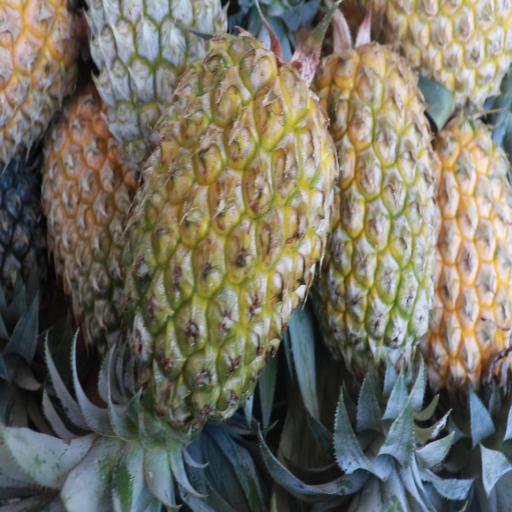------------------------------: (45, 102, 140, 342)
Pineapple - v8 v1: (125, 56, 332, 417), (312, 52, 437, 364), (425, 118, 512, 374)
